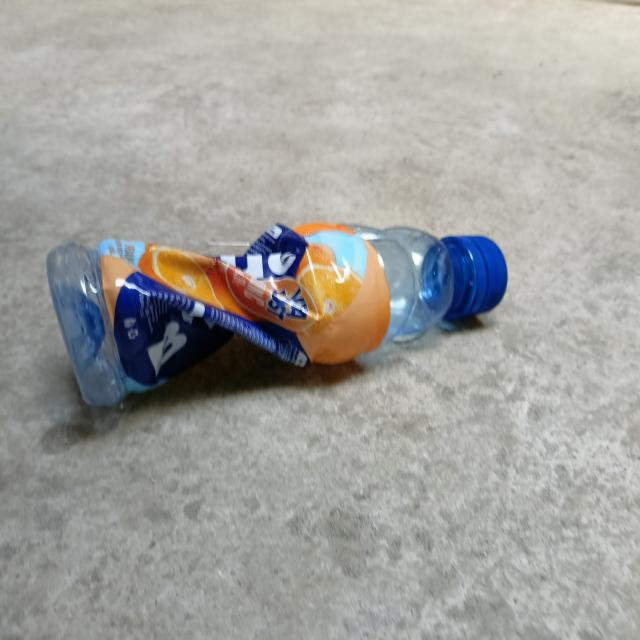Bottle: (44, 224, 510, 411)
